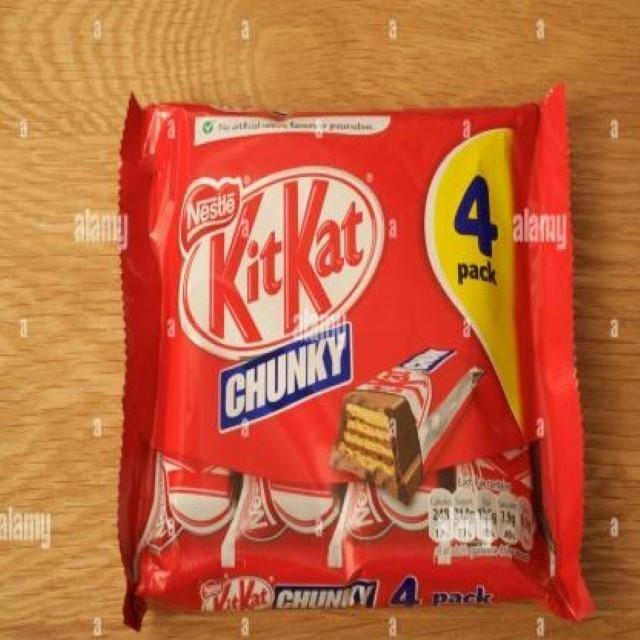kitkat_chocolate: (137, 120, 570, 623)
